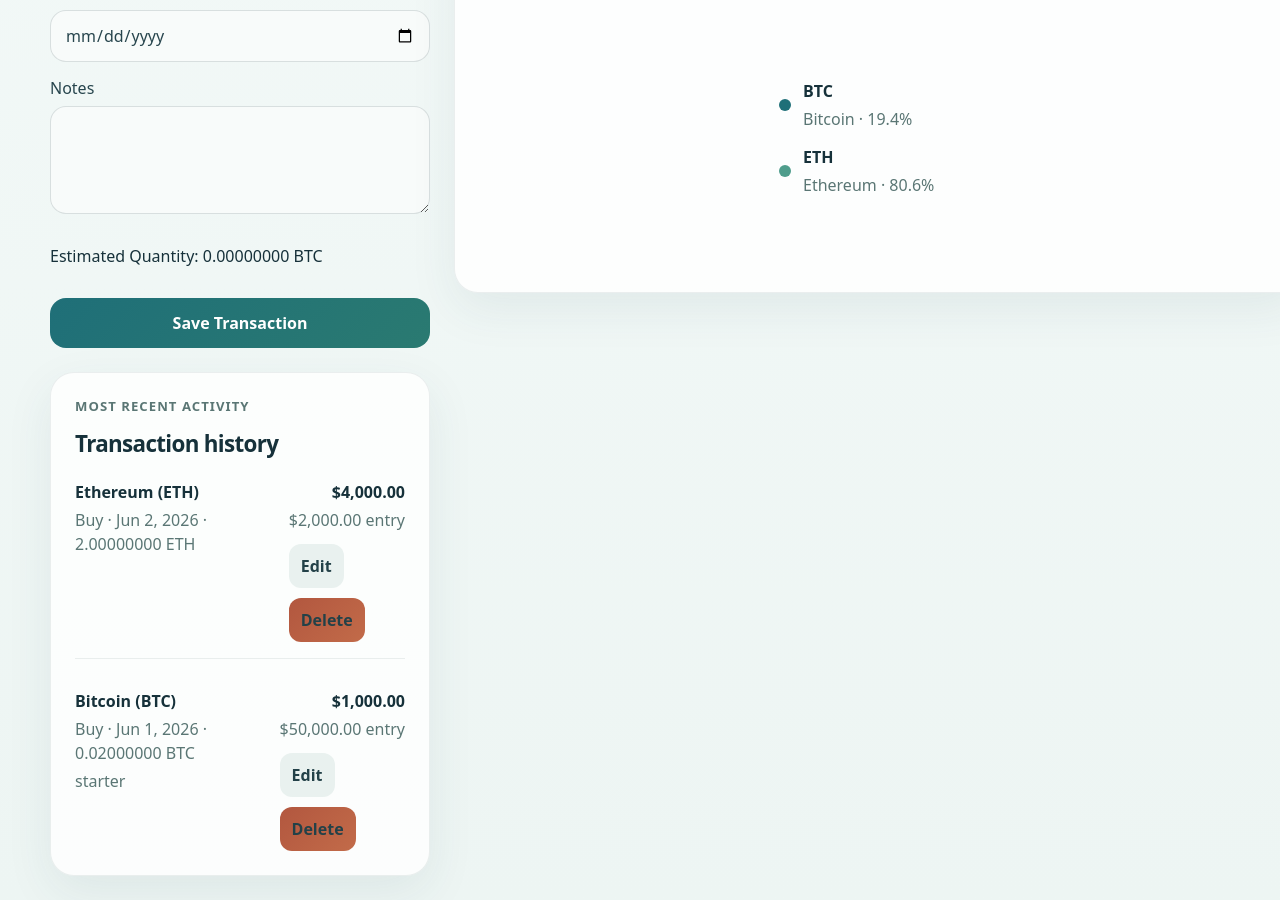
Test case: only one transaction can be in edit mode at a time
The width and height of the screenshot is (1280, 900).
(page scrolled)
Click the button with aria-label "edit bitcoin" at (307, 776), box [280,754,334,798]
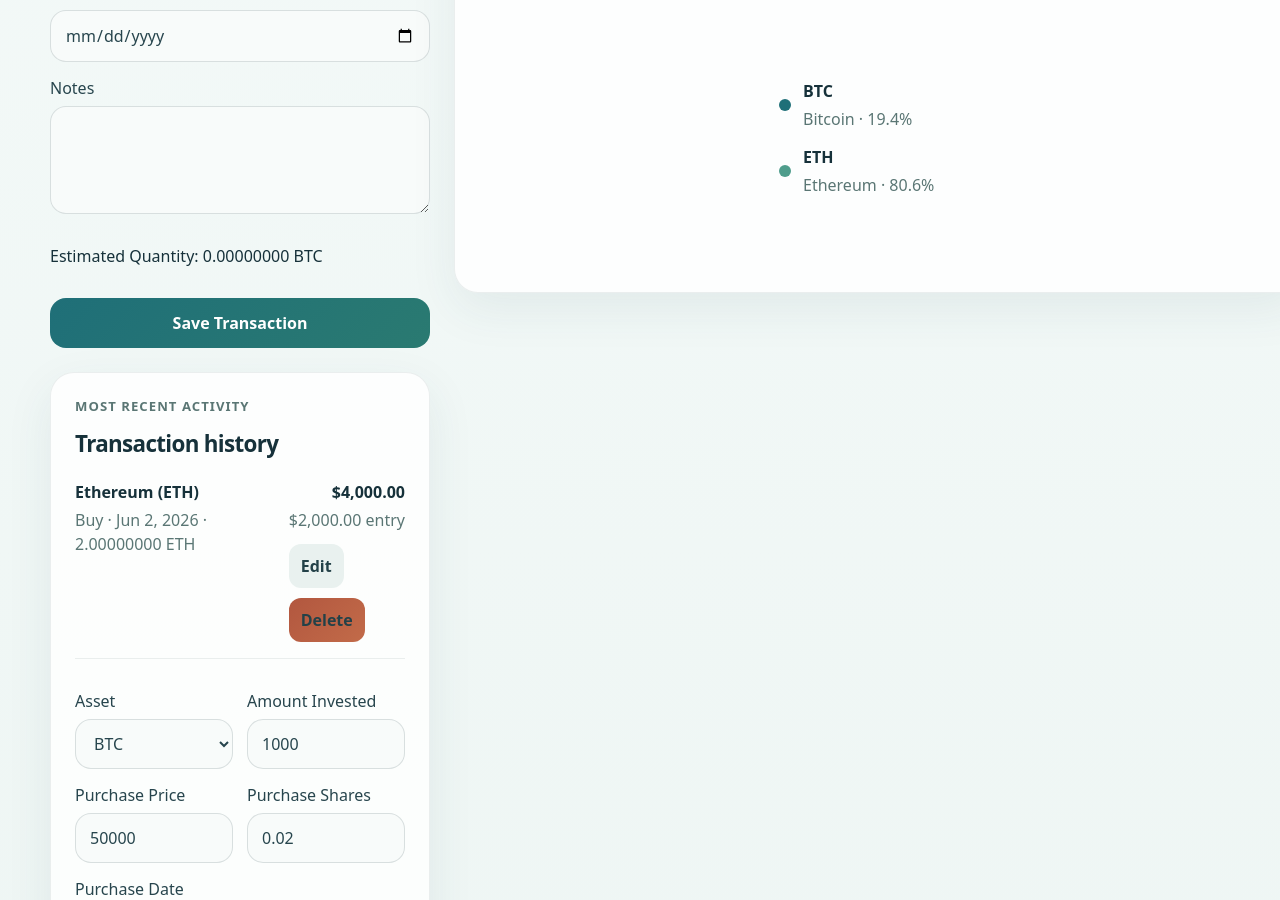
Click the button with aria-label "edit ethereum" at (316, 566), box [289,544,344,588]
(page scrolled)
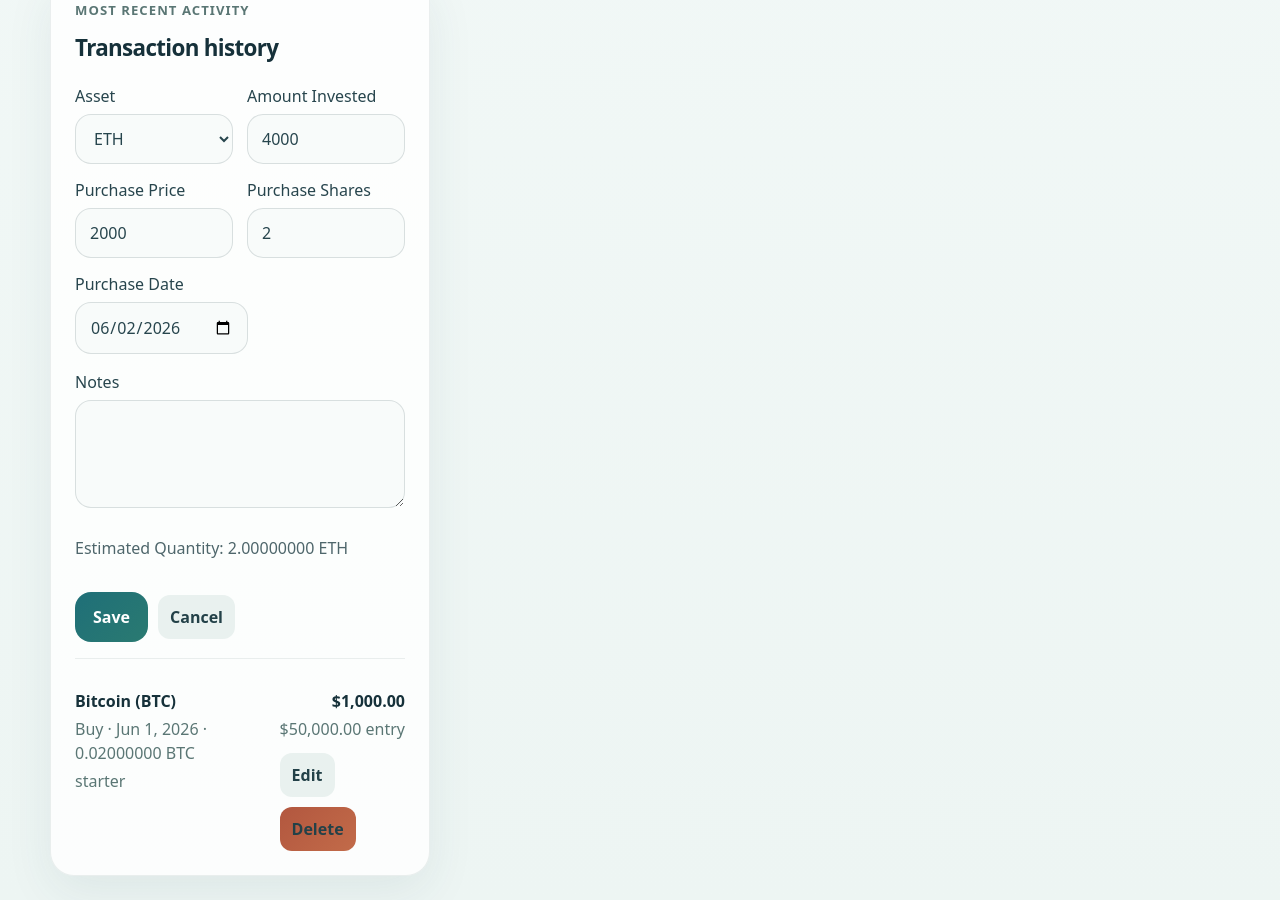
Expected: the button with aria-label "save ethereum" is shown, [75,592,148,642]
